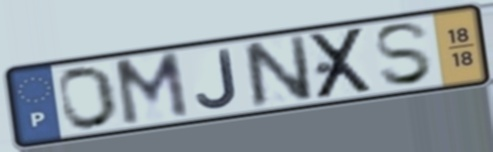J: (193, 46, 241, 112)
M: (110, 48, 193, 130)
N: (239, 32, 317, 111)
O: (55, 64, 121, 132)
S: (371, 20, 437, 89)
X: (306, 24, 377, 103)
